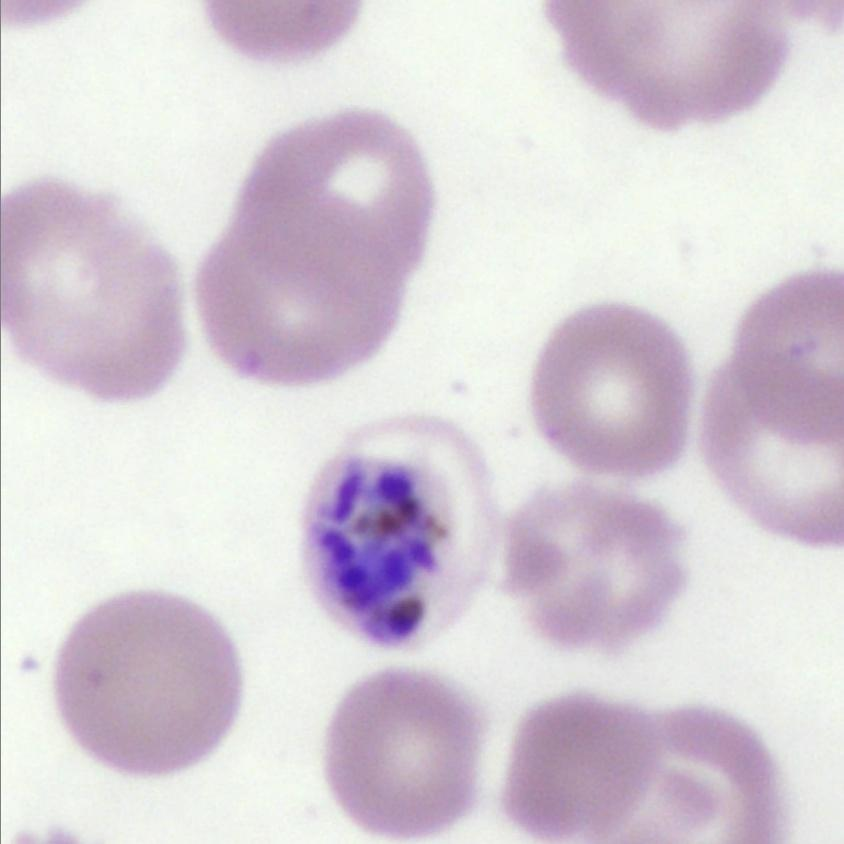Infected: (305, 410, 491, 649)
Uninfected: (0, 179, 184, 404), (195, 189, 394, 385), (238, 109, 432, 301), (58, 592, 248, 778), (532, 0, 792, 128), (500, 490, 688, 654), (530, 305, 700, 479), (323, 670, 486, 834), (498, 694, 670, 844), (708, 354, 844, 543), (628, 697, 787, 844), (732, 265, 844, 437)
